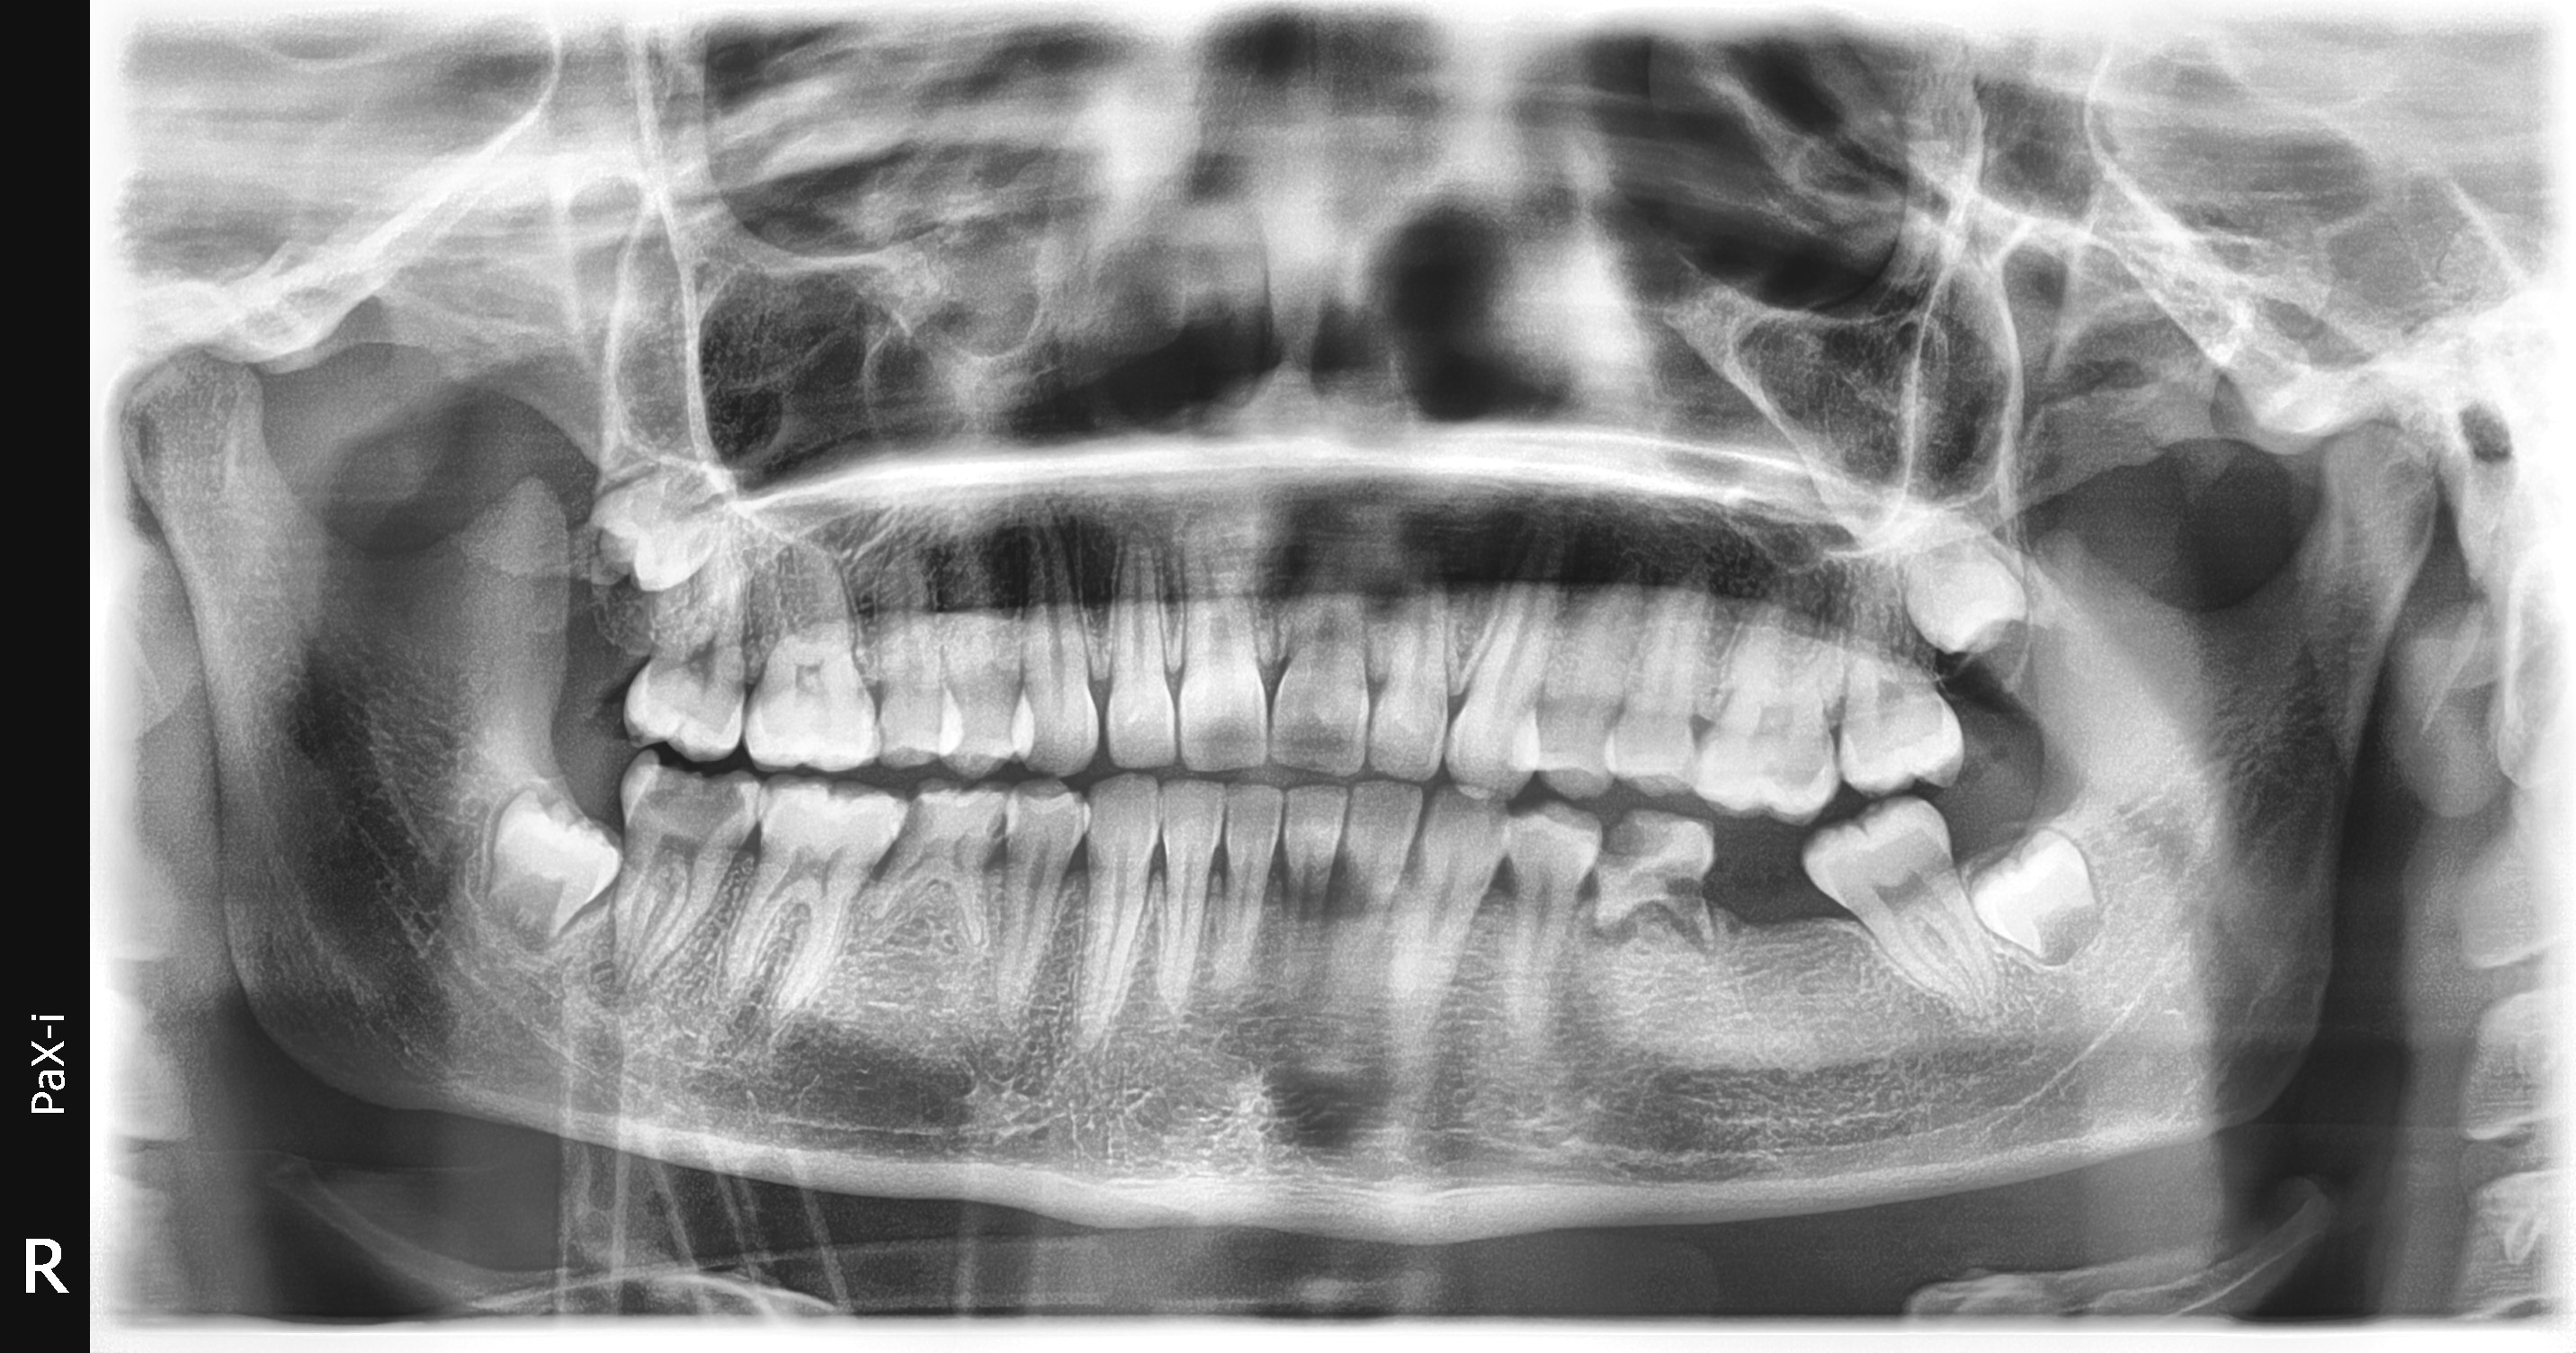BON: (1235, 620, 1314, 724), (1925, 821, 1998, 903), (1794, 878, 1871, 954), (717, 813, 780, 898), (1049, 833, 1106, 910)
CAR: (1588, 799, 1724, 946), (641, 745, 745, 843)
IMT: (578, 431, 763, 603), (472, 769, 641, 949), (1888, 513, 2048, 666), (1963, 818, 2119, 970)
